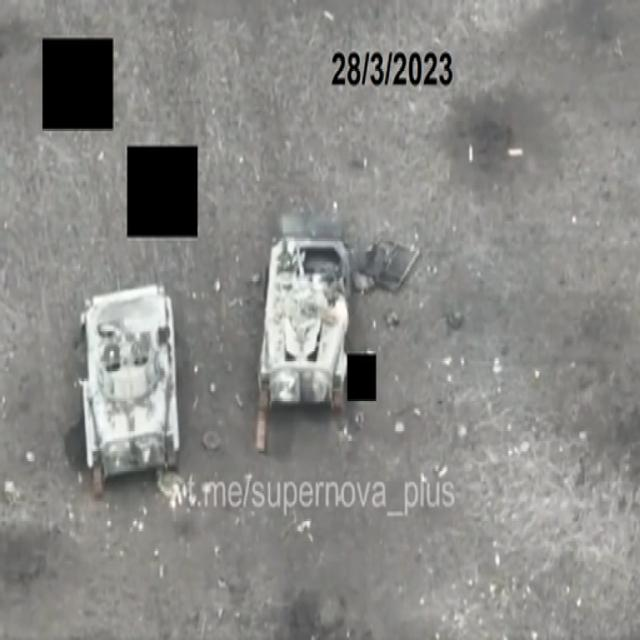APC-IFV: (71, 273, 184, 491), (249, 222, 349, 424)
